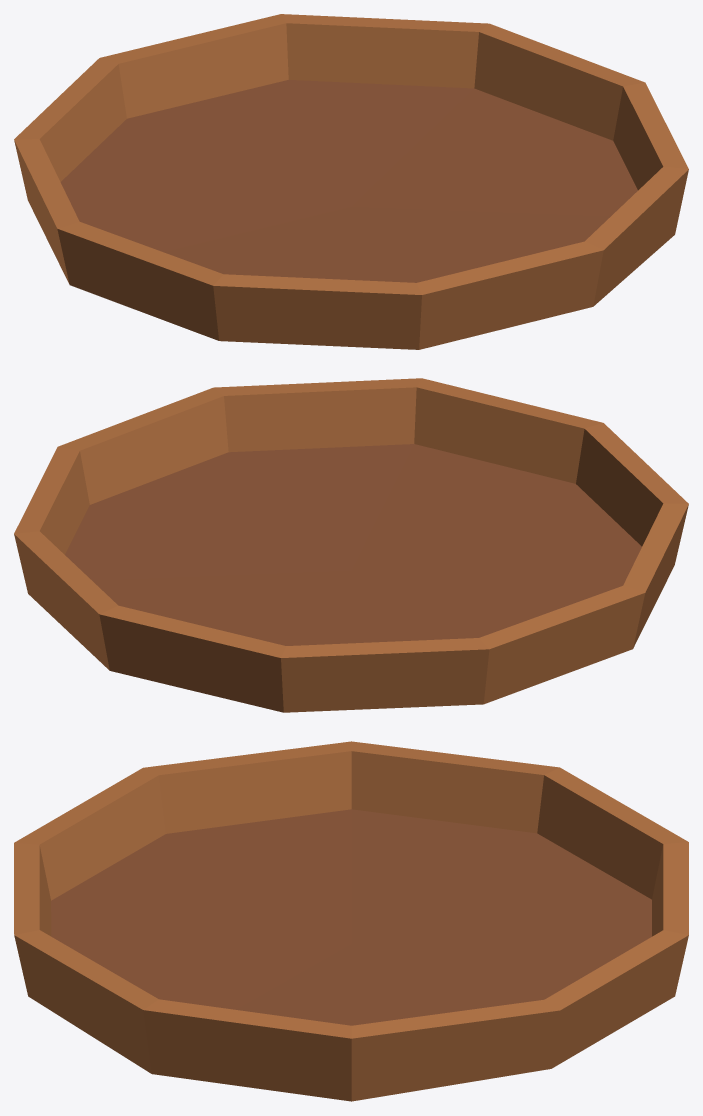
File: SM_Prop_Copper_Plate_Large_02.glb
3 views of the same model, one above another, from view 1: azimuth 30°, elevation 25°; view 2: azimuth 150°, elevation 25°; view 3: azimuth 270°, elevation 25° (orthographic). The views are drawn at different scales.
Visible parts, largest first — view 1: SM_Prop_Copper_Plate_Large_02; view 2: SM_Prop_Copper_Plate_Large_02; view 3: SM_Prop_Copper_Plate_Large_02.
Boxes of the visible parts, x1,y1,x2,y2 form: SM_Prop_Copper_Plate_Large_02: (14, 14, 688, 349); SM_Prop_Copper_Plate_Large_02: (14, 378, 688, 712); SM_Prop_Copper_Plate_Large_02: (14, 741, 688, 1101).
Size of the model in its own units: 1.6 by 0.2047 by 1.52.
Materials: 1 (1 with a texture image).
